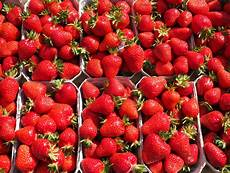Fresa: (142, 130, 172, 167), (120, 41, 147, 76), (142, 109, 174, 136), (202, 141, 230, 171), (108, 149, 140, 173), (14, 143, 39, 173), (31, 58, 61, 83), (200, 108, 228, 134), (86, 92, 116, 116), (100, 114, 129, 138), (97, 30, 124, 54), (89, 13, 116, 37), (16, 36, 39, 63), (181, 94, 202, 122), (21, 12, 46, 35), (78, 115, 99, 142), (184, 47, 206, 72), (161, 88, 182, 112), (172, 54, 192, 79), (80, 156, 108, 173), (202, 85, 223, 107), (137, 29, 158, 50), (132, 1, 156, 15)
